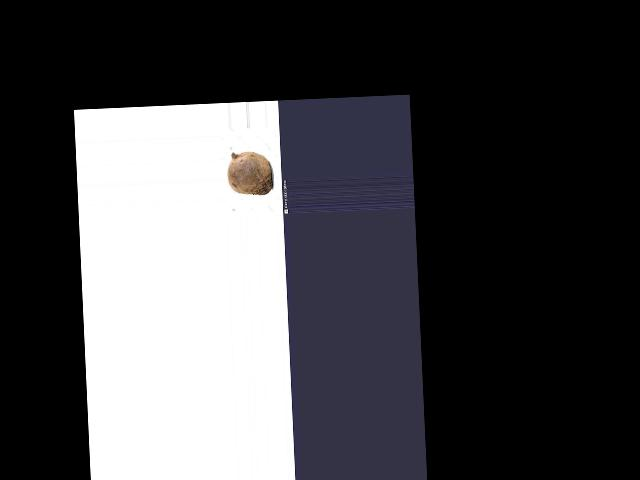beet: (226, 150, 273, 196)
